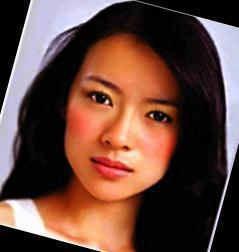Drunk: (69, 43, 171, 190)
